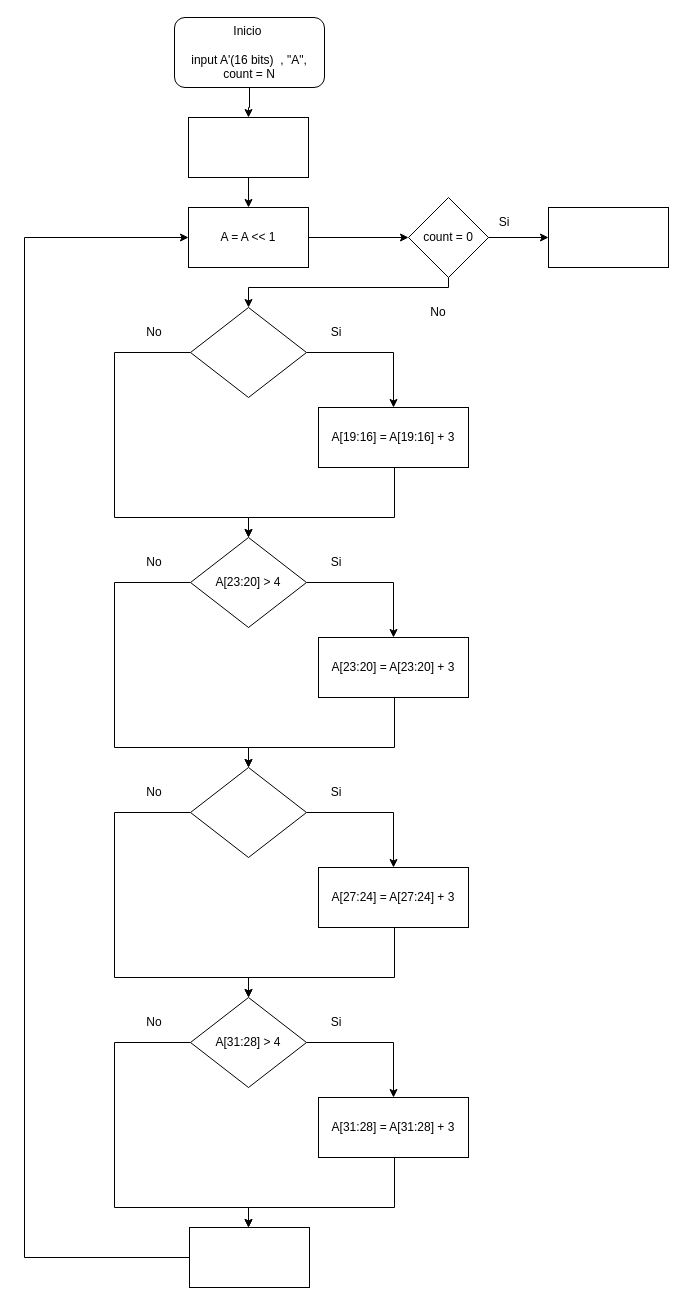
Some shapes in this 686 by 1305 pixel diagram are drawn without their labels. Here are the shapes that lost their labels. From the top down, the centre of each, then its label:
the point at 248,147: A = {¨A¨,A'}
the point at 608,237: END
the point at 248,352: A[19:16] > 4
the point at 248,812: A[27:24] > 4
the point at 249,1257: count --
